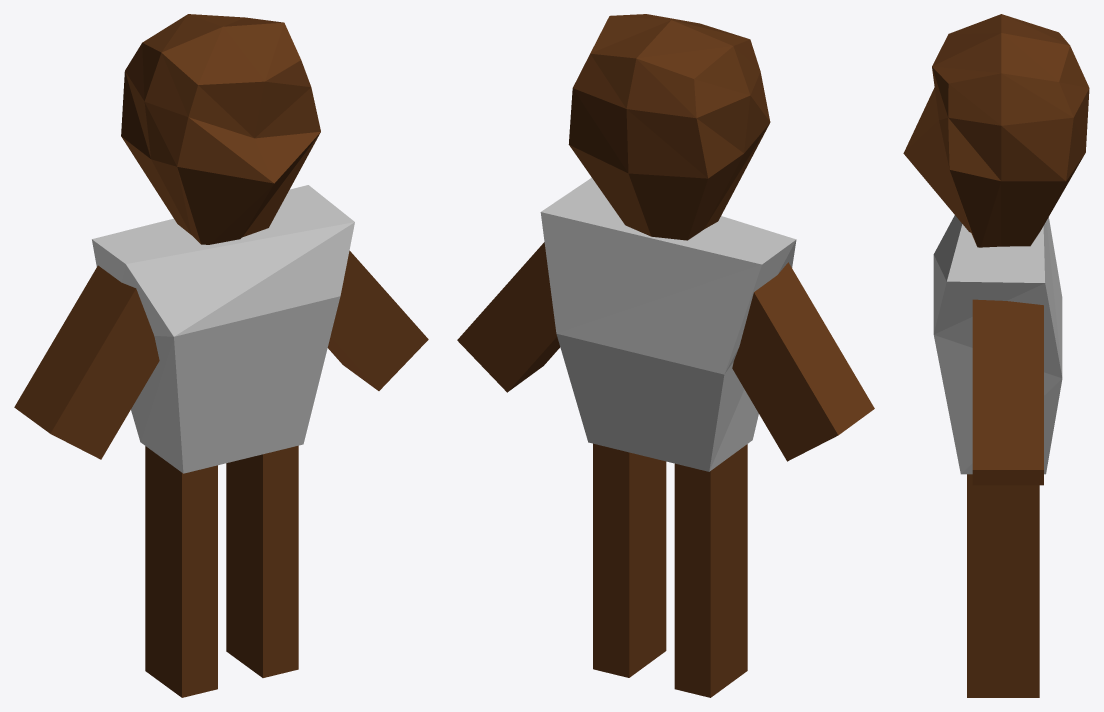
The model's file is veryLowPoly1.obj.
The picture shows the model from 3 angles, left to right: view 1: azimuth 30°, elevation 25°; view 2: azimuth 150°, elevation 25°; view 3: azimuth 270°, elevation 25°; orthographic projection.
Visible parts, largest first — view 1: Cube.001, Cube, Cube.004, Cube.005, Cube.003, Cube.002; view 2: Cube.001, Cube, Cube.004, Cube.005, Cube.003, Cube.002; view 3: Cube, Cube.005, Cube.001, Cube.002.
Part boxes in pixels (x1,y1,x2,y2): Cube.001: (92, 185, 354, 473); Cube: (121, 14, 320, 244); Cube.004: (145, 446, 217, 697); Cube.005: (226, 445, 298, 677); Cube.003: (14, 265, 159, 459); Cube.002: (327, 250, 428, 390); Cube.001: (540, 177, 796, 471); Cube: (568, 14, 770, 240); Cube.004: (674, 444, 747, 697); Cube.005: (593, 443, 666, 677); Cube.003: (732, 262, 874, 461); Cube.002: (457, 242, 559, 392); Cube: (903, 14, 1089, 247); Cube.005: (967, 474, 1039, 697); Cube.001: (933, 215, 1062, 474); Cube.002: (972, 299, 1043, 485).
Size of the model in its own units: 3.66 by 5.95 by 1.57.
